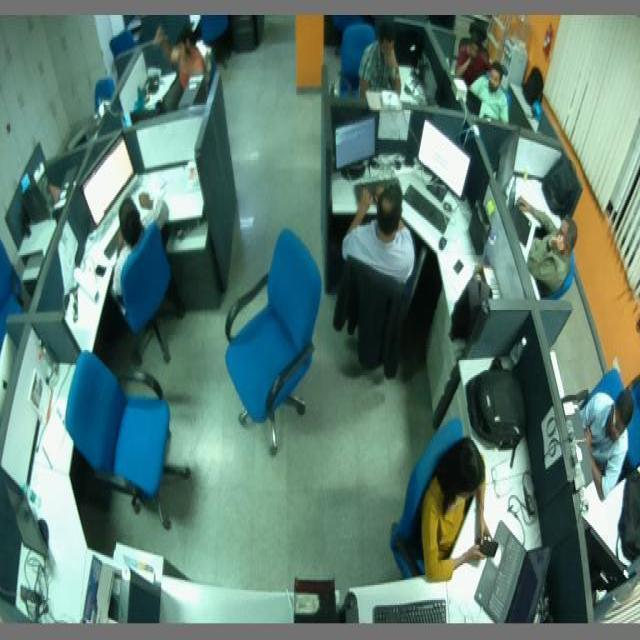chair: (222, 226, 324, 464), (65, 349, 193, 531), (114, 222, 182, 360), (597, 363, 638, 472), (341, 25, 379, 102), (546, 251, 583, 309), (94, 77, 115, 105), (109, 30, 135, 52)
keyboard: (403, 183, 452, 235), (372, 593, 448, 622), (355, 177, 402, 201)
laptop: (476, 518, 553, 624)
monitor: (77, 130, 139, 222), (416, 114, 472, 198), (8, 487, 50, 558), (333, 115, 378, 172), (498, 123, 521, 200)
person: (421, 442, 494, 585), (342, 183, 416, 287), (114, 193, 170, 297), (582, 387, 634, 498), (518, 200, 577, 295), (154, 25, 208, 105), (362, 25, 404, 100), (471, 62, 514, 128), (454, 35, 488, 88)
phone: (94, 261, 108, 279), (452, 255, 464, 275)
